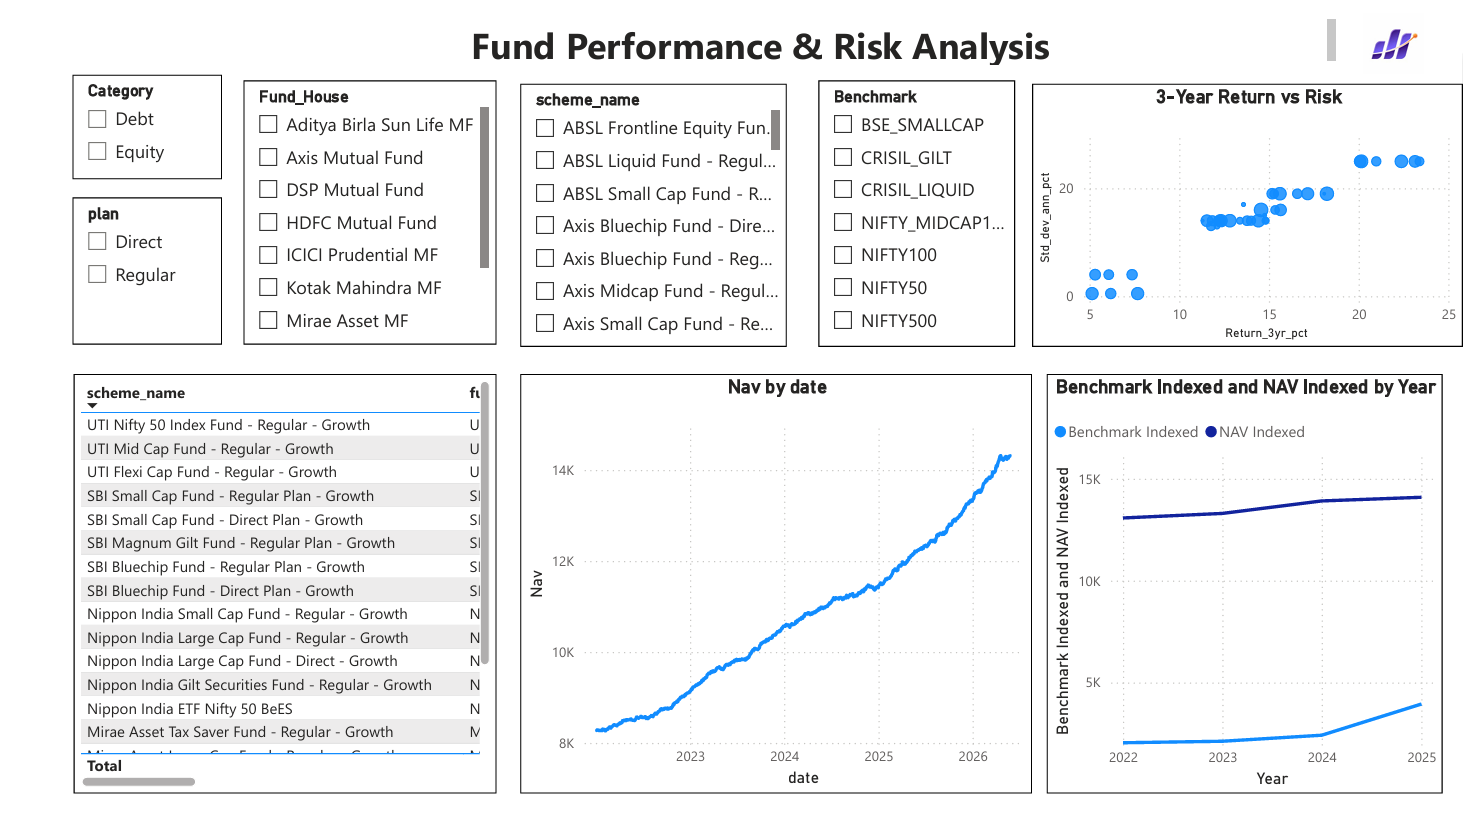

The page's visual inventory and layout, read from the dashboard file:
{"tool":"powerbi","page":{"name":"Fund Performance","canvas":[1280,720],"ordinal":1},"visuals":[{"type":"textbox","box":[9.9,0,1162.9,49.5],"z":0},{"type":"scatterChart","title":"3-Year Return vs Risk","fields":{"X":["Sum(scheme_performance_cleaned.return_3yr_pct)"],"Y":["Sum(scheme_performance_cleaned.std_dev_ann_pct)"],"Size":["Sum(scheme_performance_cleaned.aum_crore)"],"Category":["scheme_performance_cleaned.scheme_name"]},"box":[897.4,61.7,382.8,234.6],"z":1000},{"type":"slicer","fields":{"Values":["fund_master_cleaned.fund_house"]},"box":[196.2,59,225,234.6],"z":2000},{"type":"slicer","fields":{"Values":["fund_master_cleaned.category"]},"box":[43.9,53.5,133.1,93.3],"z":3000},{"type":"slicer","fields":{"Values":["fund_master_cleaned.plan"]},"box":[43.9,163.3,133.1,130.4],"z":4000},{"type":"tableEx","fields":{"Values":["scheme_performance_cleaned.scheme_name","scheme_performance_cleaned.fund_house","scheme_performance_cleaned.category","Sum(scheme_performance_cleaned.return_3yr_pct)","Sum(scheme_performance_cleaned.sharpe_ratio)","Sum(scheme_performance_cleaned.expense_ratio_pct)","Sum(scheme_performance_cleaned.max_drawdown_pct)","Sum(scheme_performance_cleaned.alpha)","scheme_performance_cleaned.Fund Score"]},"box":[45.3,319.7,376,373.2],"z":5000},{"type":"slicer","fields":{"Values":["scheme_performance_cleaned.scheme_name"]},"box":[441.9,61.7,237.4,234.6],"z":6000},{"type":"lineChart","fields":{"Category":["02_nav_history_cleaned.date"],"Y":["Sum(02_nav_history_cleaned.nav)"]},"box":[441.9,319.7,455.6,373.2],"z":7000},{"type":"slicer","fields":{"Values":["benchmark_indices_cleaned.index_name"]},"box":[706.7,59,175.6,237.4],"z":8000},{"type":"lineChart","fields":{"Category":["DateTable.Date.Variation.Date Hierarchy.Year","DateTable.Date.Variation.Date Hierarchy.Quarter","DateTable.Date.Variation.Date Hierarchy.Month","DateTable.Date.Variation.Date Hierarchy.Day"],"Y":["benchmark_indices_cleaned.Benchmark Indexed","02_nav_history_cleaned.NAV Indexed"]},"box":[909.8,319.7,352.7,373.2],"z":9000},{"type":"image","box":[1185.5,0,66.5,53.8],"z":9001}]}

Visuals, with their boxes in screenshot pixels (x1, y1, x2, y2), scaled from the page's 1280x720 canvas onto the 1480x840 screenshot:
textbox: <region>11, 0, 1356, 58</region>
"3-Year Return vs Risk" scatterChart: <region>1038, 72, 1479, 346</region>
slicer - fund_master_cleaned.fund_house: <region>227, 69, 487, 343</region>
slicer - fund_master_cleaned.category: <region>51, 62, 205, 171</region>
slicer - fund_master_cleaned.plan: <region>51, 191, 205, 343</region>
tableEx - scheme_performance_cleaned.scheme_name x scheme_performance_cleaned.fund_house: <region>52, 373, 487, 808</region>
slicer - scheme_performance_cleaned.scheme_name: <region>511, 72, 785, 346</region>
lineChart - 02_nav_history_cleaned.date x Sum(02_nav_history_cleaned.nav): <region>511, 373, 1038, 808</region>
slicer - benchmark_indices_cleaned.index_name: <region>817, 69, 1020, 346</region>
lineChart - DateTable.Date.Variation.Date Hierarchy.Year x DateTable.Date.Variation.Date Hierarchy.Quarter: <region>1052, 373, 1460, 808</region>
image: <region>1371, 0, 1448, 63</region>
